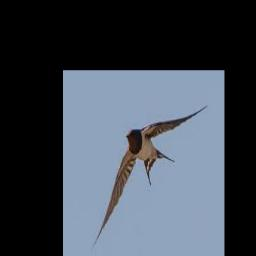Swallow: (91, 105, 208, 250)
